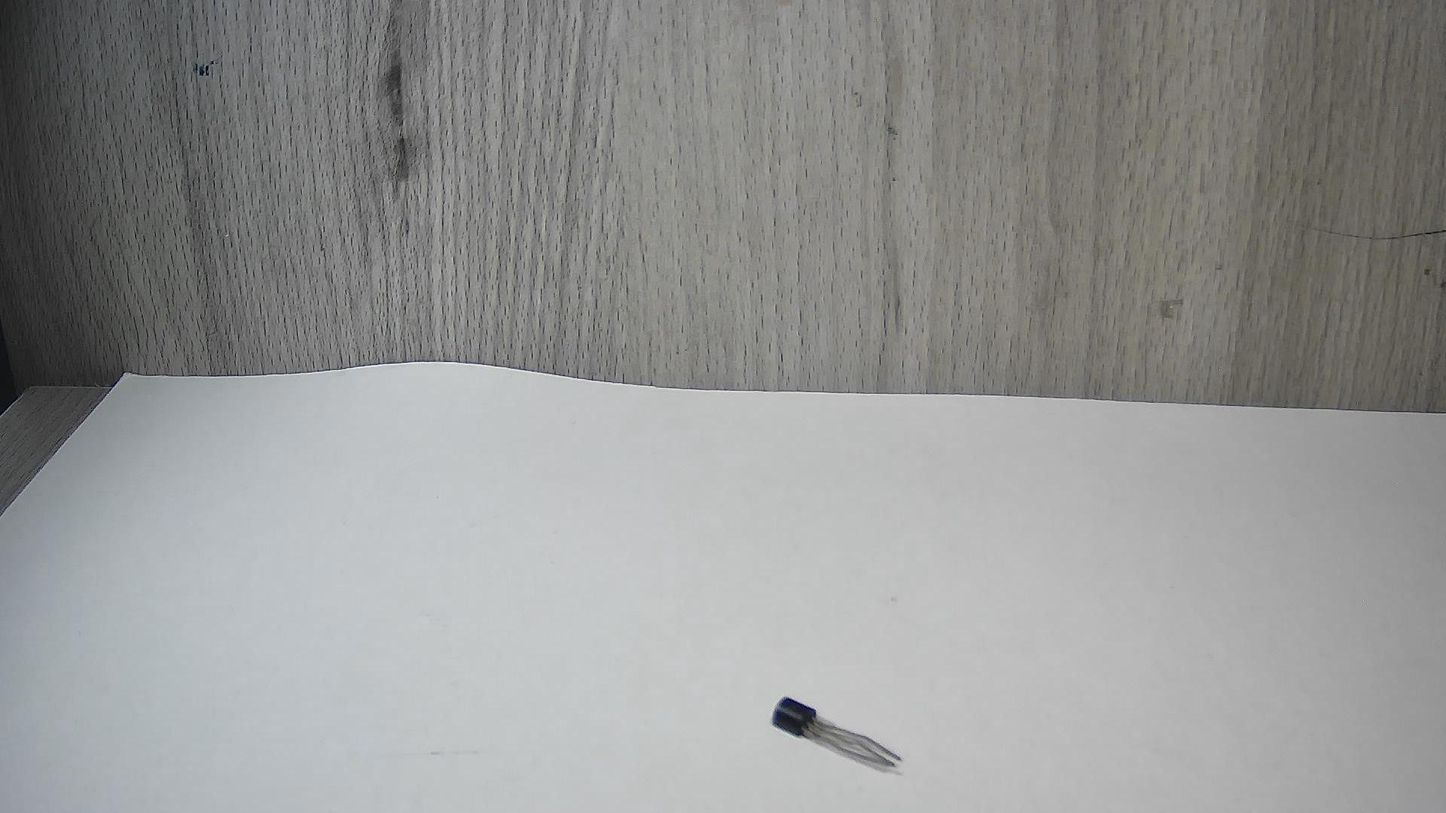Transistor: (743, 670, 936, 790)
